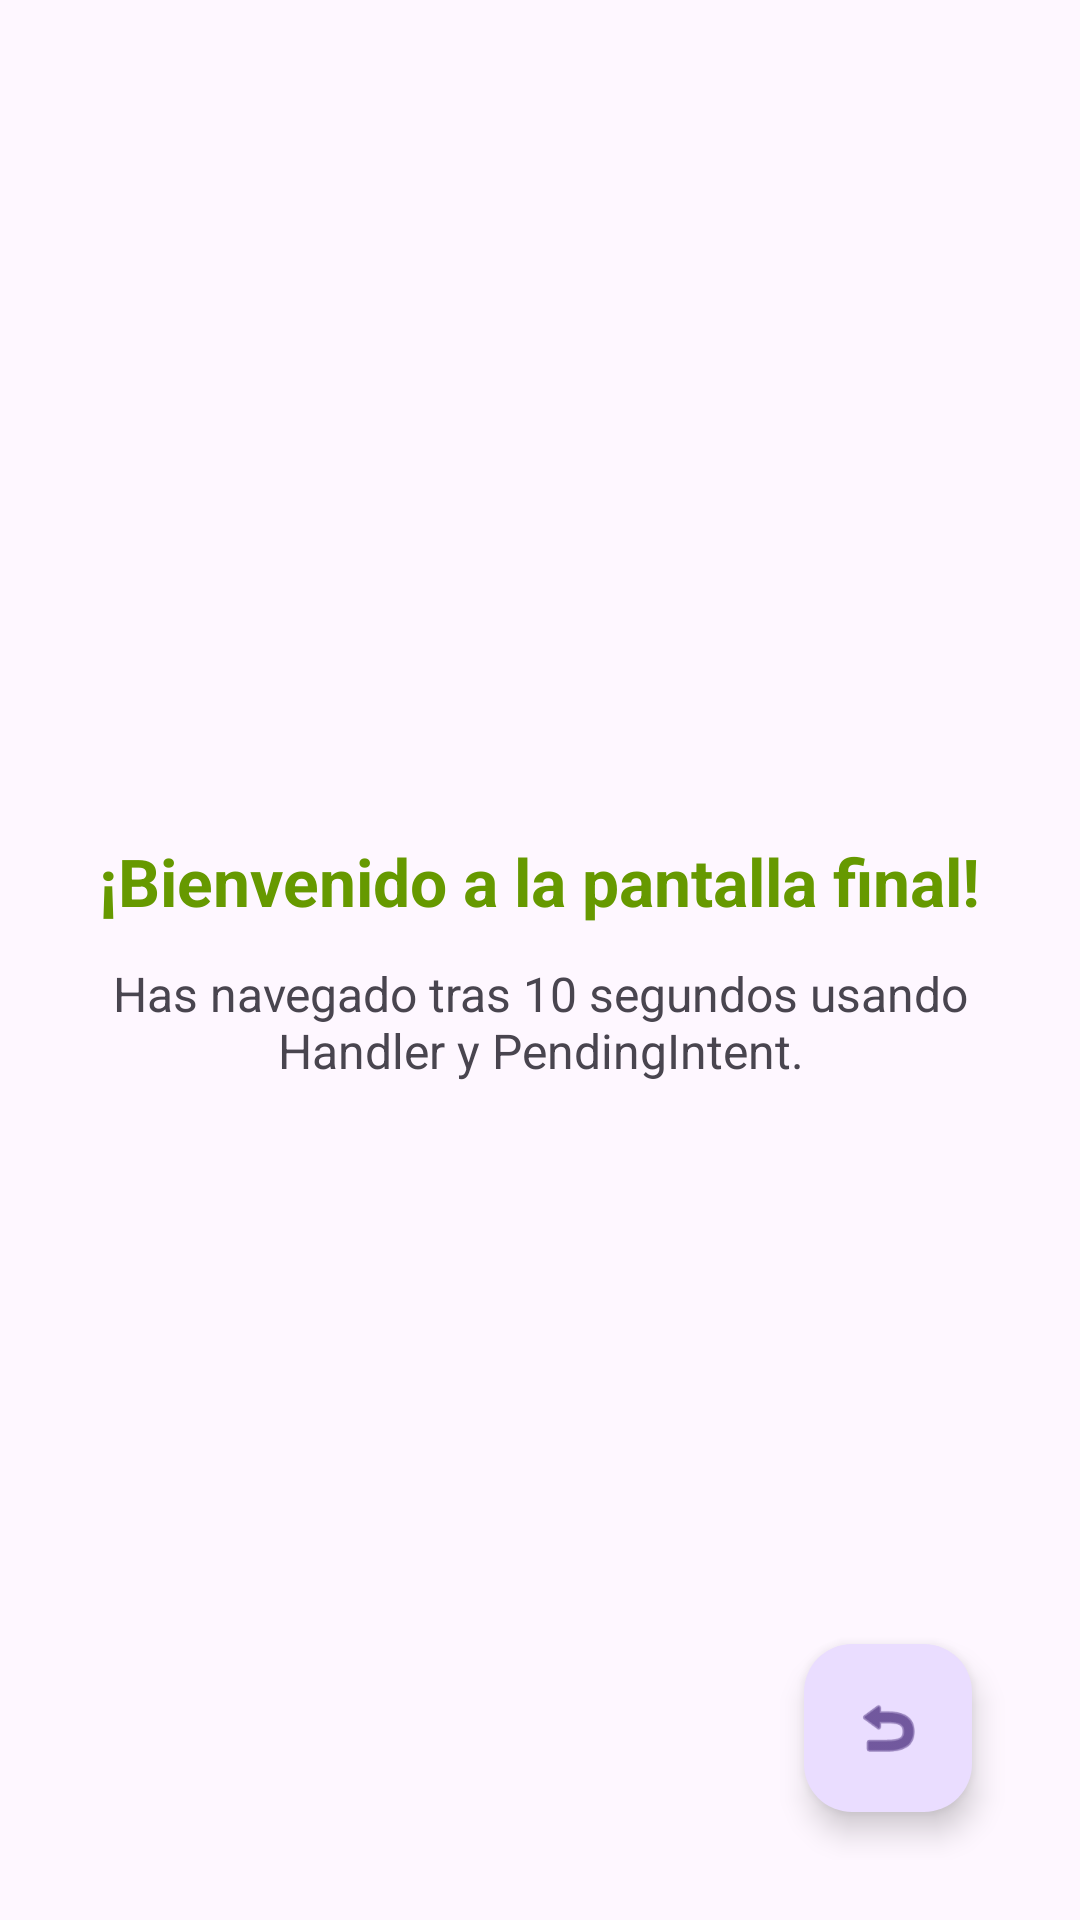

Screen size 1080w x 1920h. Icon name, then its box in pixels as (x1, y1, x2, y2):
Volver al menú: (804, 1644, 972, 1812)
